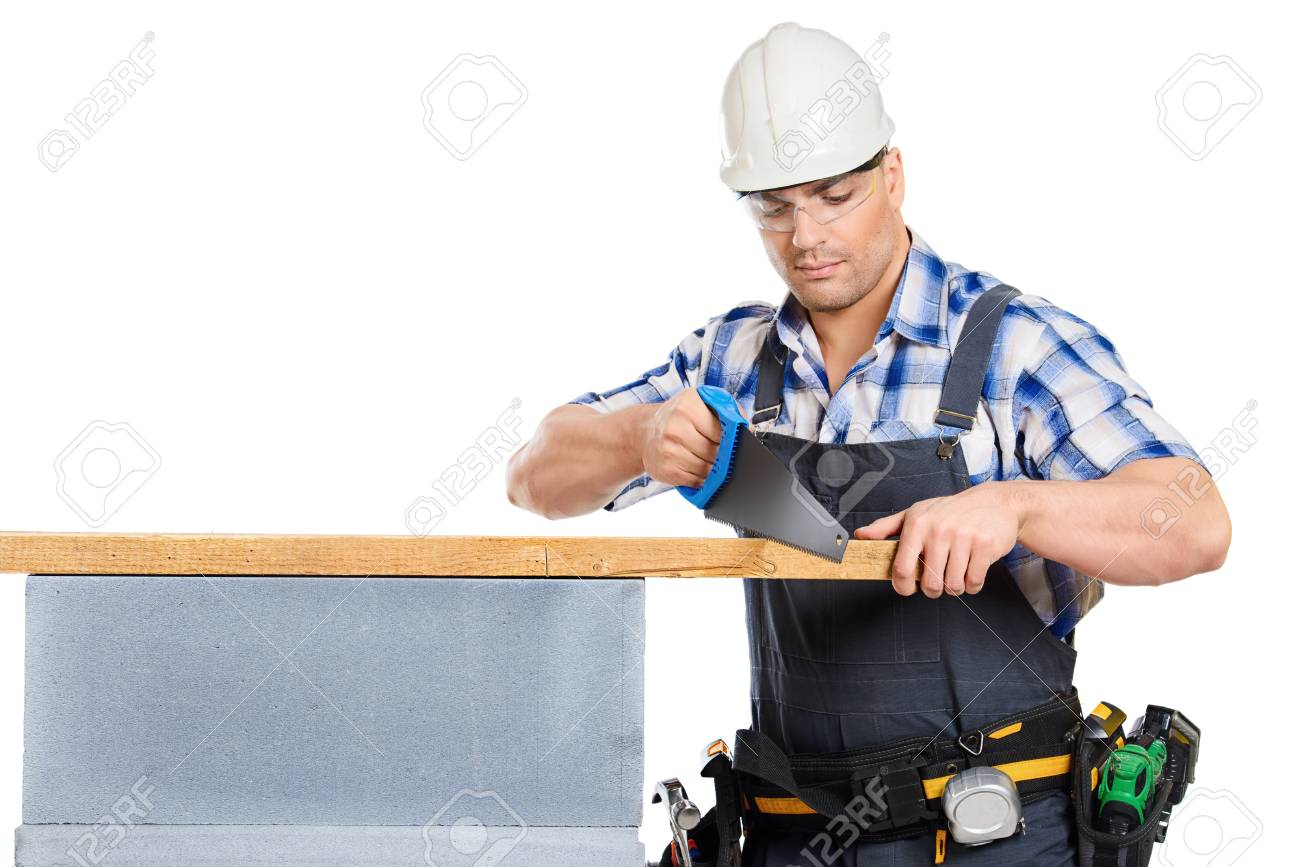casco: (716, 20, 898, 194)
